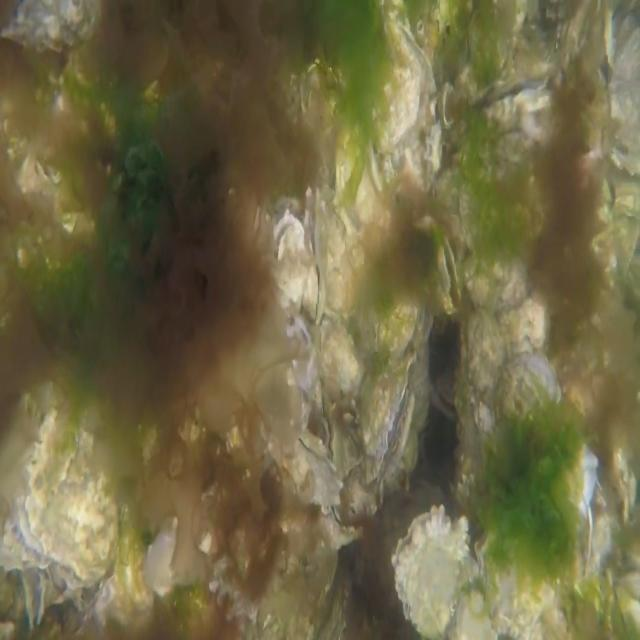Oyster-Closed: (475, 519, 555, 638), (361, 352, 417, 482), (262, 428, 344, 516), (320, 500, 365, 553)
Oyster-Indeterminate: (14, 406, 116, 588), (494, 351, 600, 514), (392, 504, 470, 640), (364, 0, 421, 153), (333, 117, 388, 271), (463, 304, 508, 478), (316, 315, 366, 434), (324, 180, 361, 320), (376, 282, 434, 366), (463, 245, 534, 309)
Oyster-Open: (466, 72, 561, 162), (270, 202, 306, 316), (302, 184, 326, 324), (436, 235, 462, 316)
